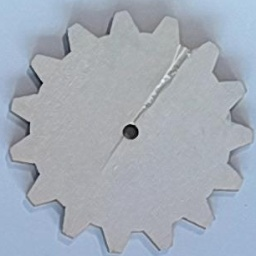Crack: (131, 46, 195, 125)
